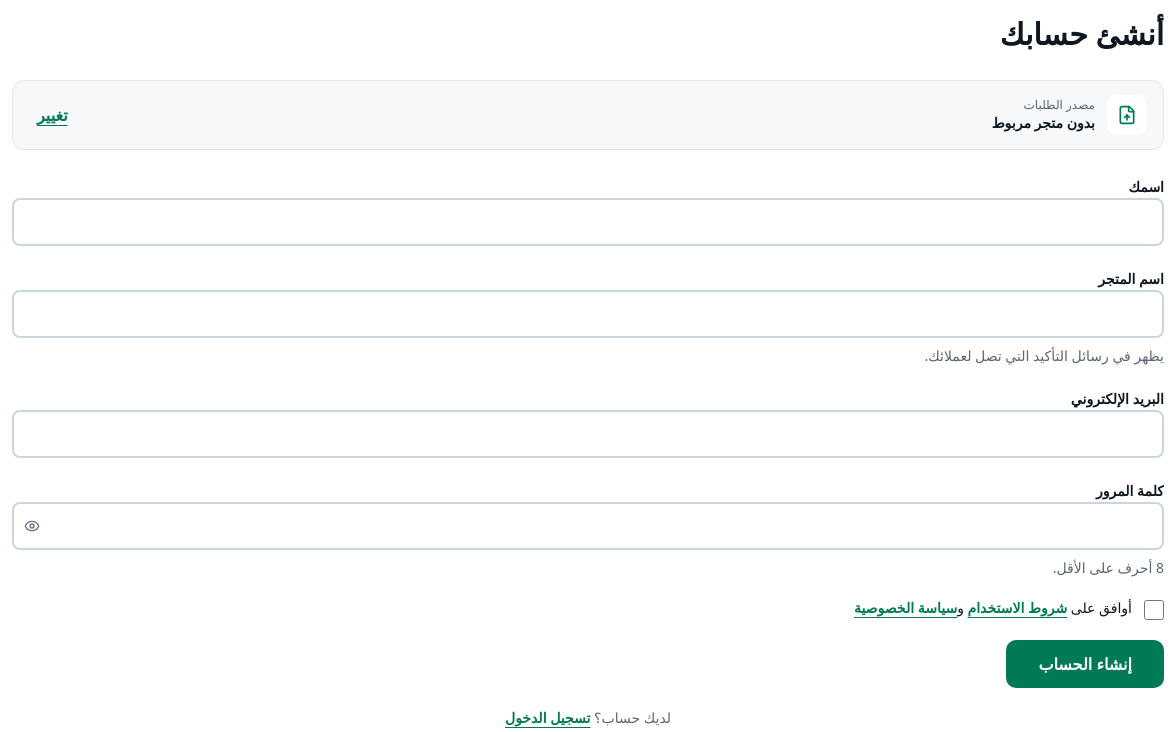
Test: SignupForm › points an already-registered email to sign-in
Type "أحمد حافظ" into the field with id "signup-full-name". click: (588, 222)
box: x1=12 y1=198 x2=1164 y2=246
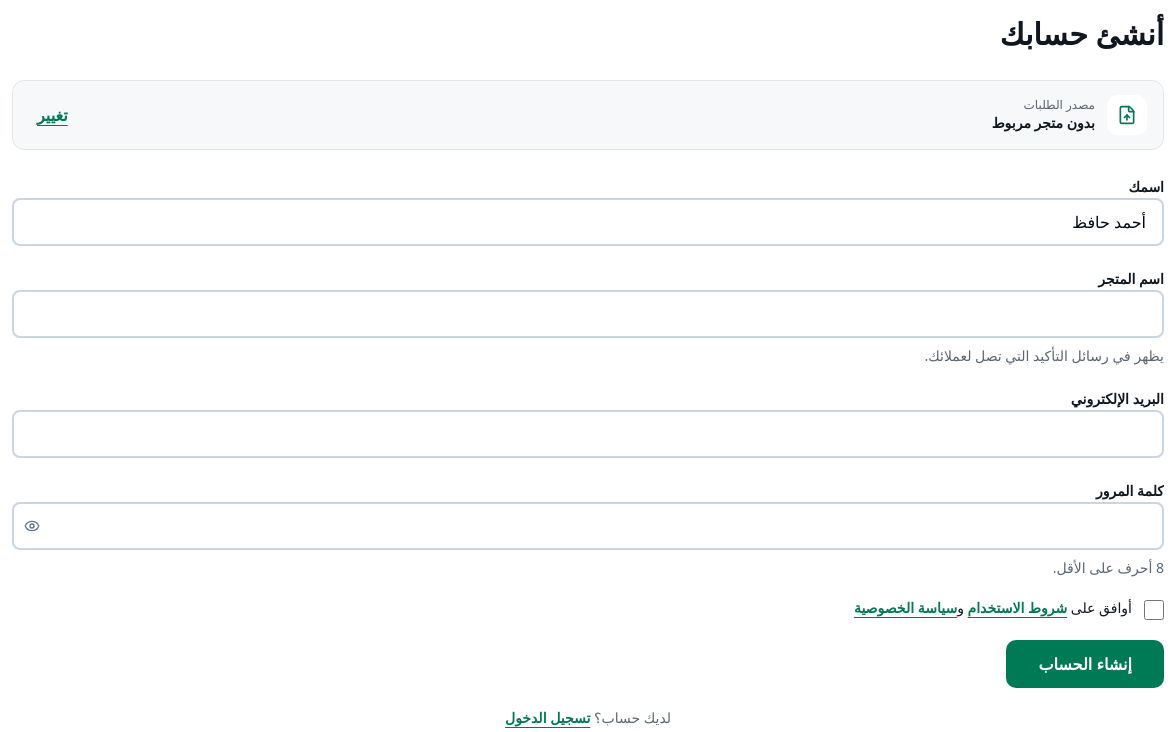
Type "متجر نور" into the field with id "signup-store-name". click: (588, 314)
box: x1=12 y1=290 x2=1164 y2=338
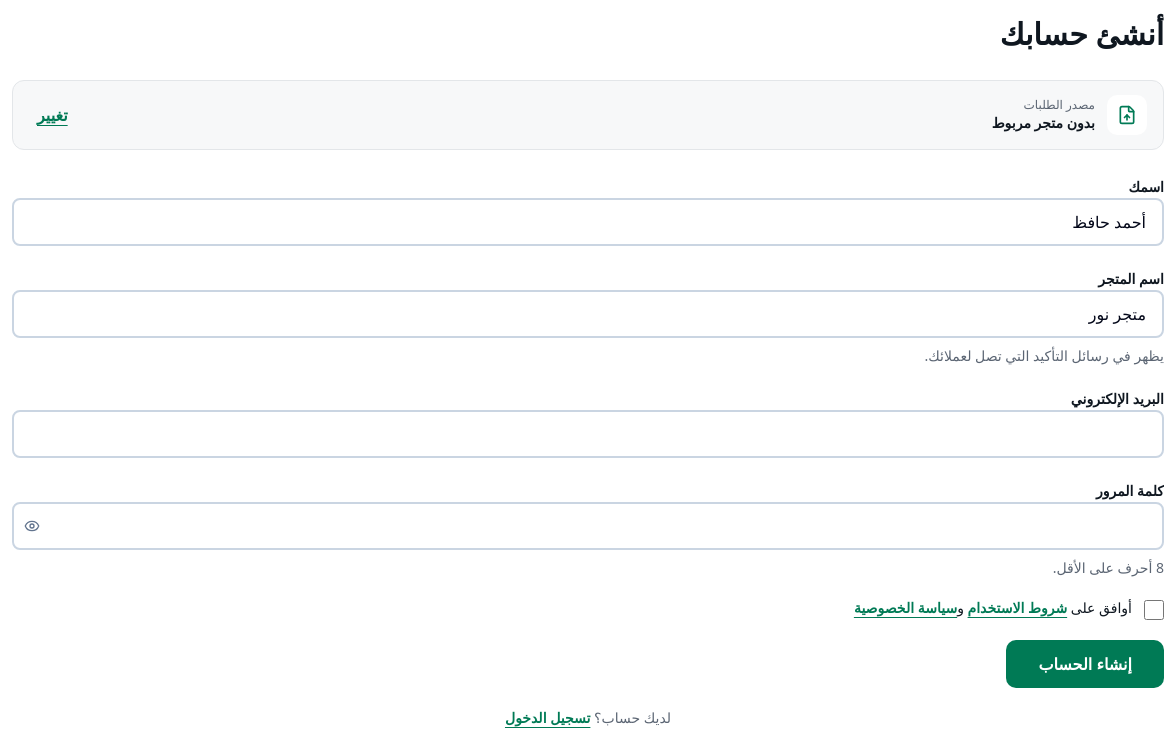
Type "ahmed@noorstore.com" into the field with id "signup-email". click: (588, 434)
box: x1=12 y1=410 x2=1164 y2=458
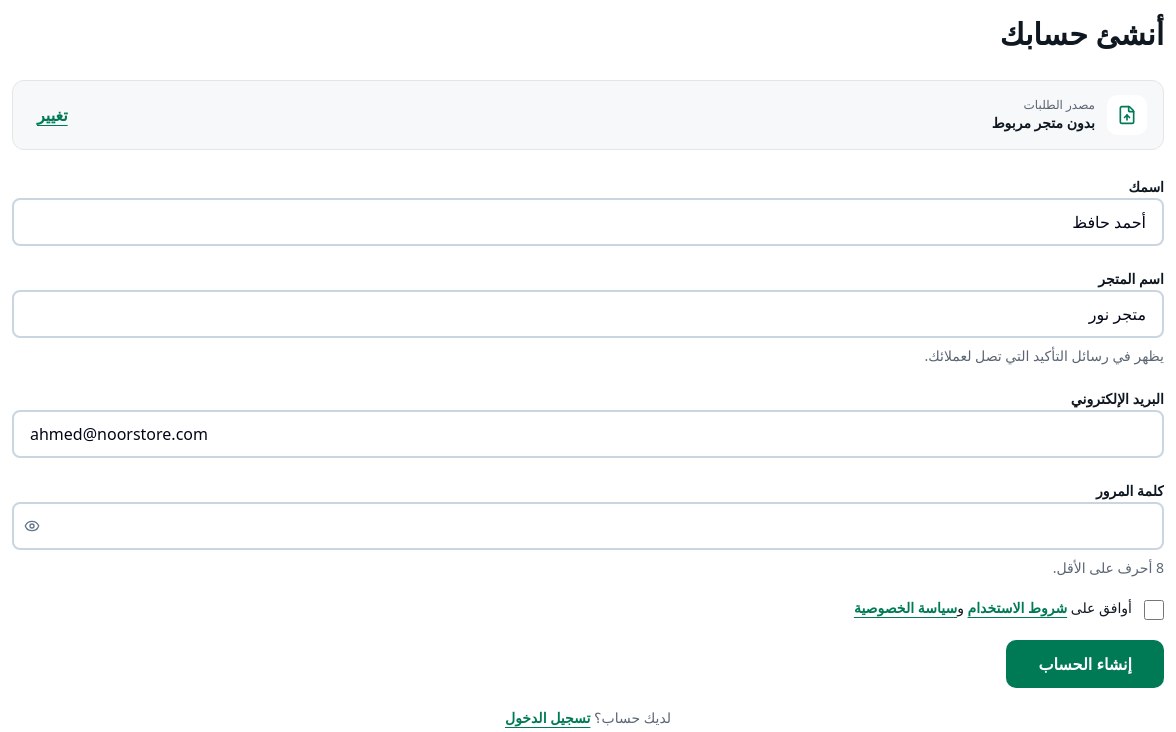
Type "secret-pass" into the password field with id "signup-password". click: (588, 526)
box: x1=12 y1=502 x2=1164 y2=550
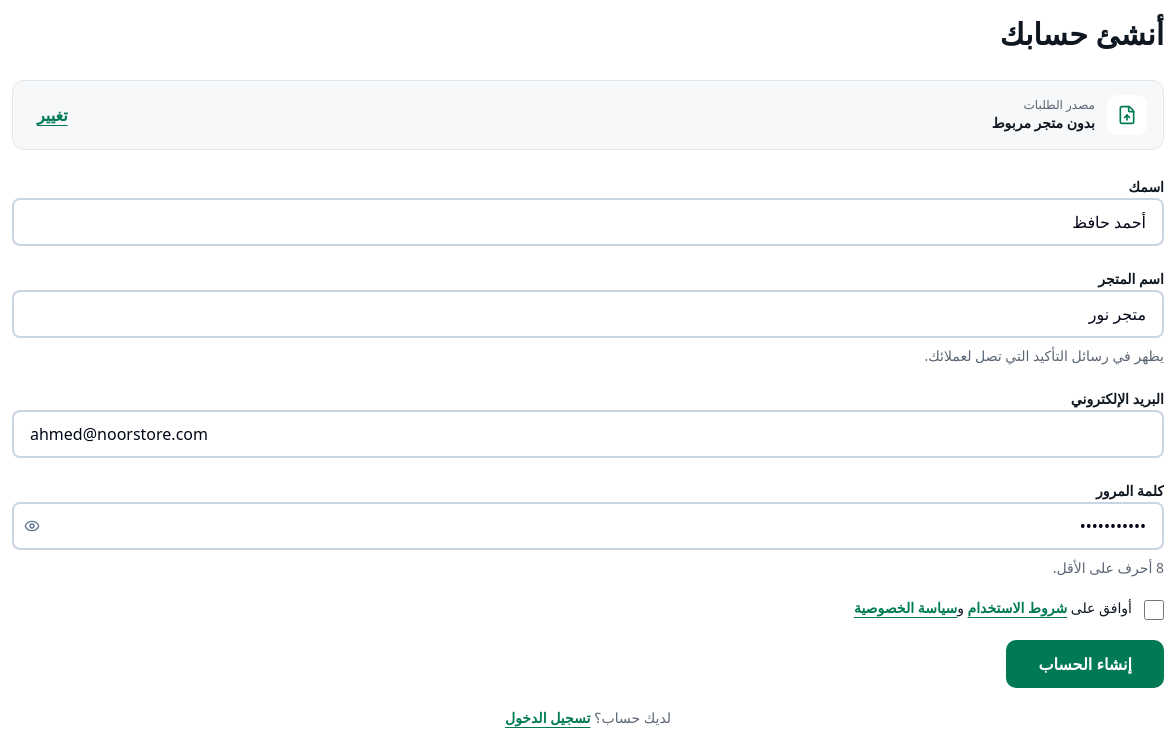
Click the checkbox with id "signup-terms". click: (1154, 610)
box: x1=1144 y1=600 x2=1164 y2=620
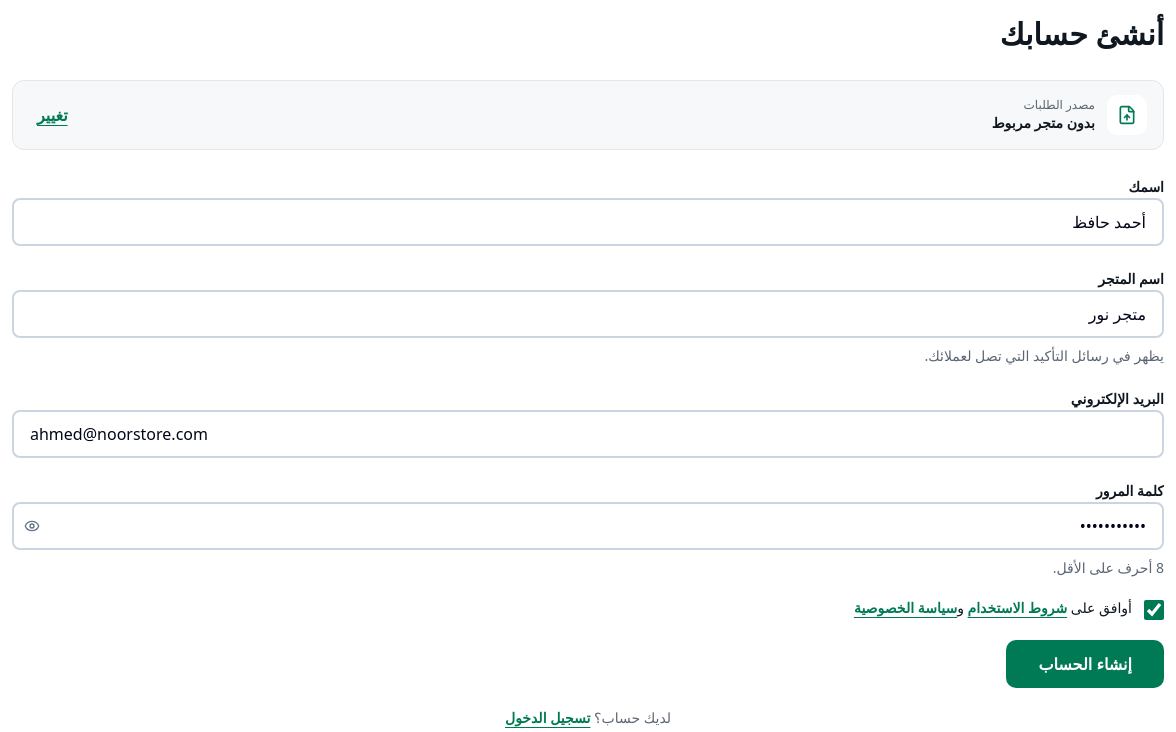
Click the button "إنشاء الحساب". click: (1085, 664)
box: x1=1006 y1=640 x2=1164 y2=688
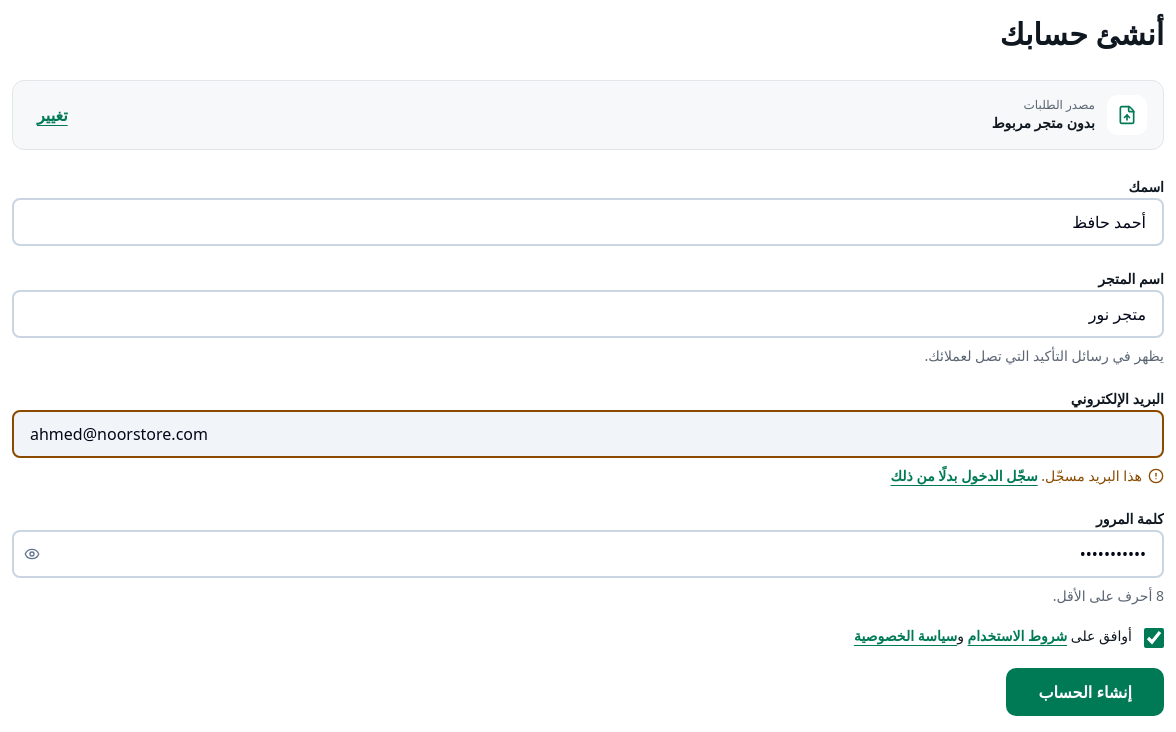
Result: the text "هذا البريد مسجّل. سجّل الدخول بدلًا من ذلك" is shown at x1=890 y1=466 x2=1142 y2=486
